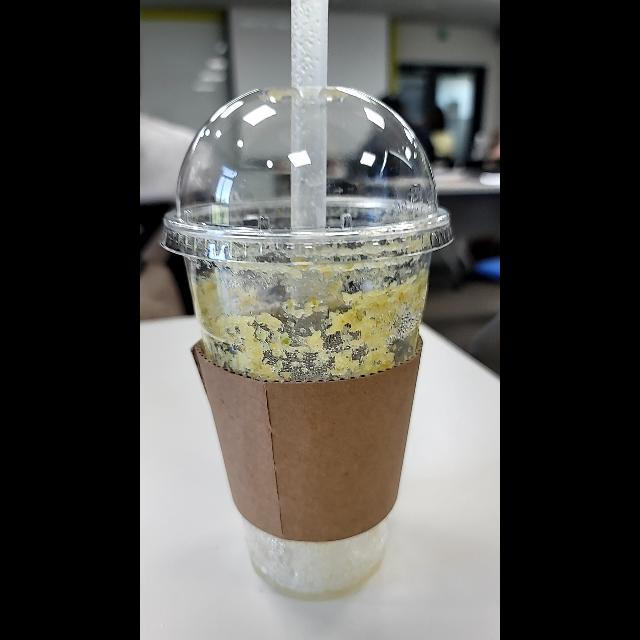plastic_cup: (160, 82, 458, 600)
plastic_cup_lid: (160, 84, 454, 268)
straw: (297, 2, 327, 304)
